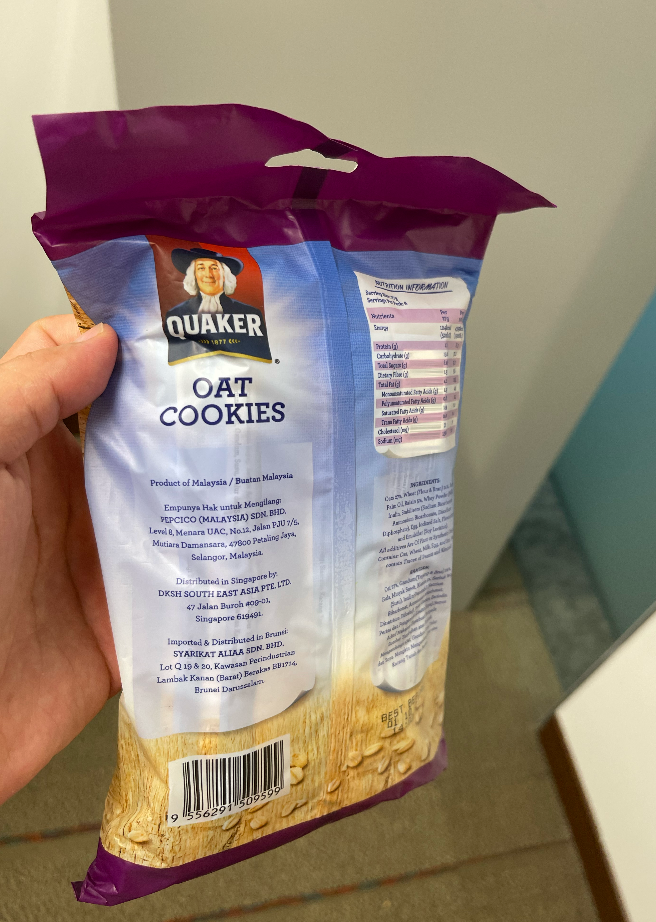cookies_100g-199g: (133, 209, 461, 836)
